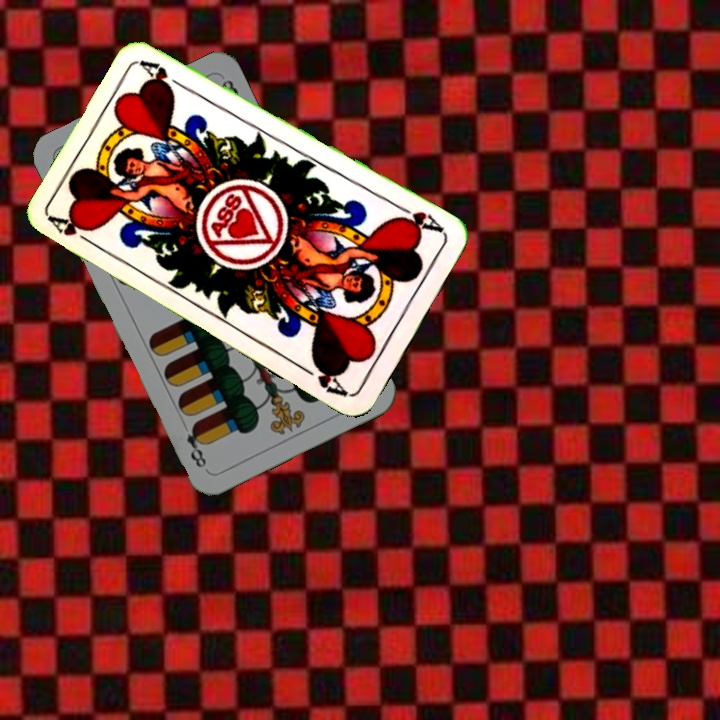HA: (47, 212, 101, 251), (391, 200, 447, 237)
